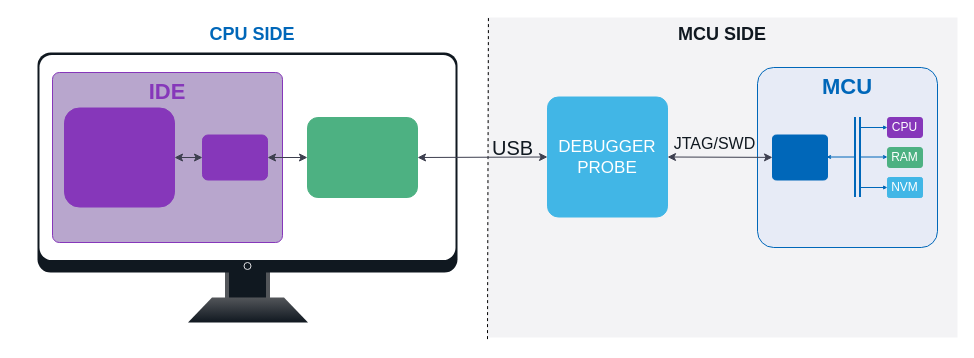
This 974x358 diagram has some shape labels left out. Here are the shapes that lost their labels. From the top down, the centre of each, then its label:
(x=119, y=157): GUI
(x=235, y=157): GDB PLUGIN
(x=362, y=157): GDB SERVER
(x=800, y=157): MCU DEBUG INTERFACE
